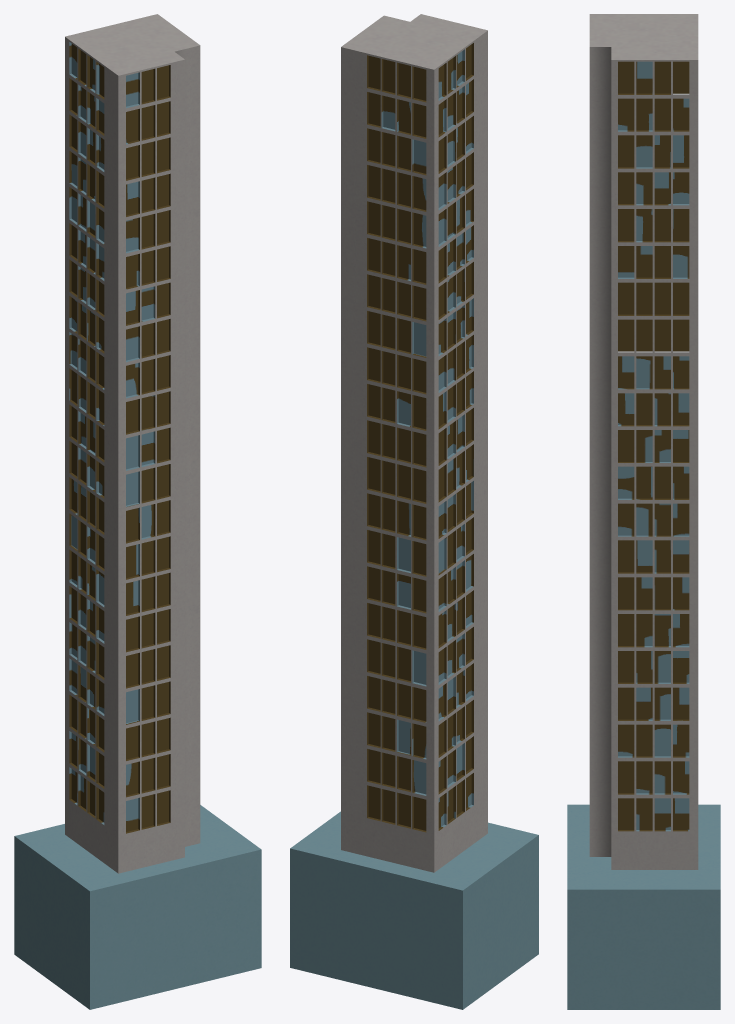
File: ResidentialSkyScraper.fbx
3 views of the same model, side by side, from view 1: azimuth 30°, elevation 25°; view 2: azimuth 150°, elevation 25°; view 3: azimuth 270°, elevation 25° (orthographic).
Visible parts, largest first — view 1: pCube1; view 2: pCube1; view 3: pCube1.
Boxes of the visible parts, <box> form: pCube1: <box>14,14,261,1009</box>; pCube1: <box>290,14,538,1009</box>; pCube1: <box>567,14,720,1009</box>.
Size of the model in its own units: 2.35 by 12 by 1.79.
